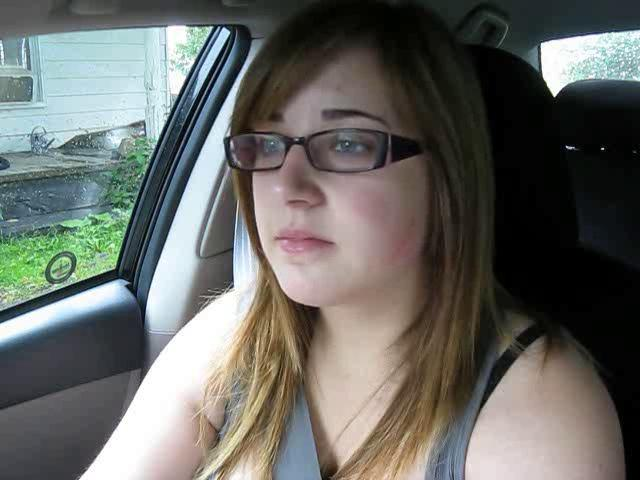no_yawn: (256, 218, 351, 271)
open_eyeL: (237, 127, 298, 169)
open_eyeR: (313, 123, 394, 175)
